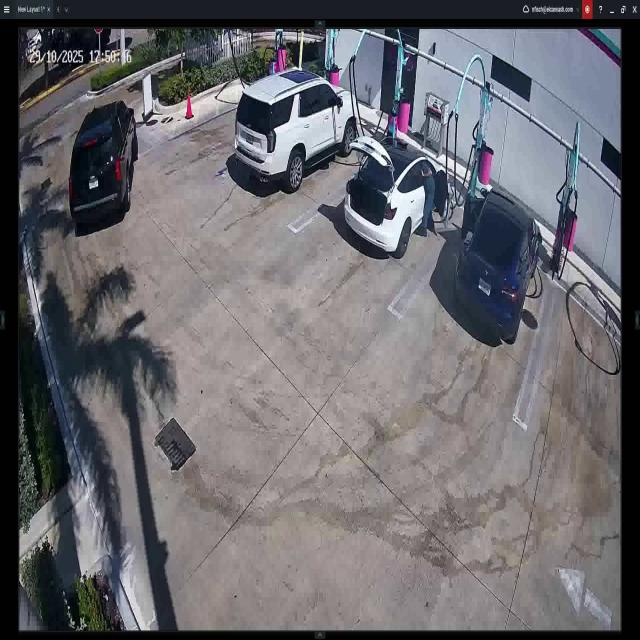Car: (231, 69, 354, 188), (348, 124, 446, 258), (456, 190, 542, 337), (65, 96, 137, 218)
